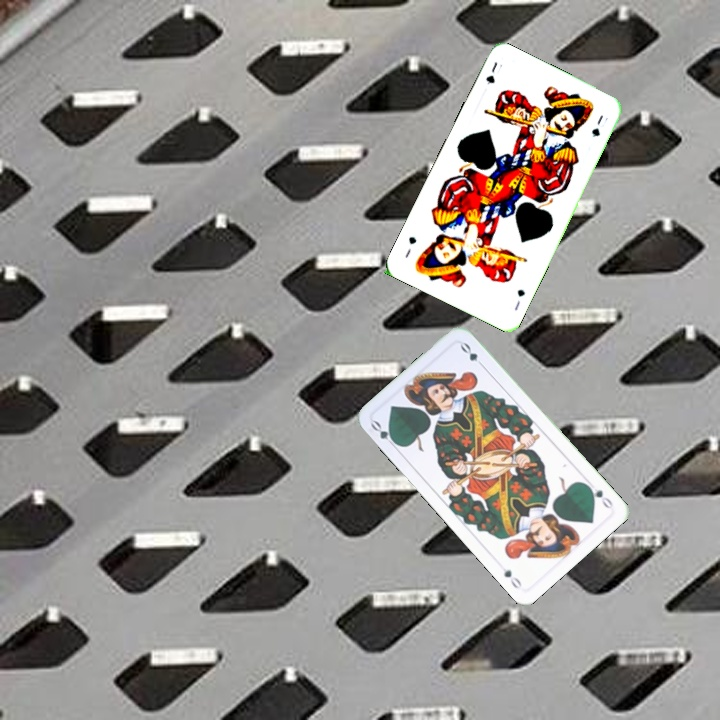GO: (367, 416, 401, 451), (582, 480, 616, 512)
GU: (482, 58, 500, 87), (510, 285, 528, 313)
